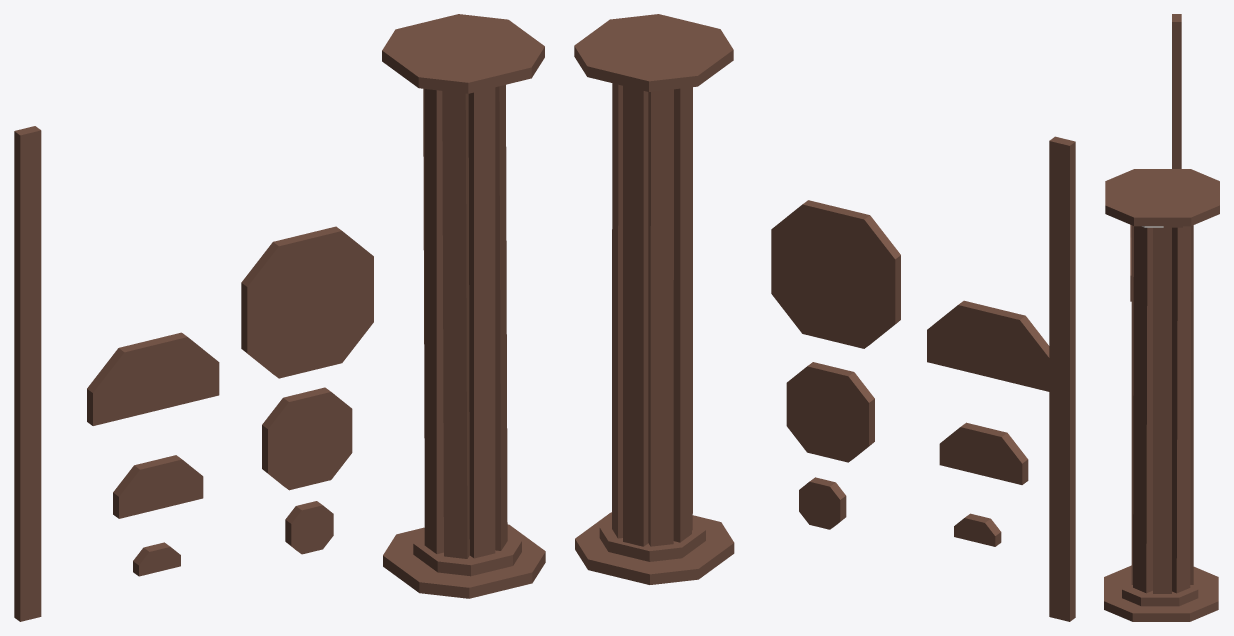
Rendered from greek-pillar-fzb-daft-by-duncan-anderson-dBswo2fOyKV.glb.
3 views of the same model, side by side, from view 1: azimuth 30°, elevation 25°; view 2: azimuth 150°, elevation 25°; view 3: azimuth 270°, elevation 25° (orthographic). The views are drawn at different scales.
Parts seen in each view (by area): view 1: group1367810154, group15885425, group882660404, group1869862936, group699842235, group752524647, group1467338244, group637229940, group748661851, group1552105455, group1021430159, group171327839 (+3 smaller); view 2: group1367810154, group15885425, group882660404, group1869862936, group699842235, group752524647, group1467338244, group637229940, group748661851, group1552105455, group1021430159, group1845869843 (+3 smaller); view 3: group15885425, group1367810154, group1869862936, group637229940, group882660404, group1021430159.
Boxes of the visible parts, box(x1,y1,x2,y2) form: group1367810154: box(424, 87, 495, 558); group15885425: box(423, 85, 507, 558); group882660404: box(14, 126, 41, 621); group1869862936: box(382, 14, 544, 93); group699842235: box(241, 234, 310, 378); group752524647: box(87, 332, 219, 425); group1467338244: box(305, 226, 373, 370); group637229940: box(383, 524, 545, 598); group748661851: box(262, 392, 310, 490); group1552105455: box(113, 455, 203, 518); group1021430159: box(413, 529, 521, 576); group171327839: box(304, 387, 331, 484); group1367810154: box(623, 86, 691, 546); group15885425: box(612, 83, 692, 546); group882660404: box(1049, 136, 1075, 621); group1869862936: box(574, 14, 733, 91); group699842235: box(833, 207, 900, 348); group752524647: box(927, 300, 1049, 391); group1467338244: box(771, 200, 838, 341); group637229940: box(575, 512, 734, 584); group748661851: box(827, 367, 874, 462); group1552105455: box(939, 422, 1028, 484); group1021430159: box(599, 515, 705, 561); group1845869843: box(799, 477, 846, 529); group15885425: box(1133, 226, 1191, 593); group1367810154: box(1131, 225, 1193, 593); group1869862936: box(1105, 169, 1219, 226); group637229940: box(1104, 565, 1218, 621); group882660404: box(1172, 14, 1181, 168); group1021430159: box(1122, 569, 1198, 606).
Size of the model in its own units: 3.8 by 3.85 by 0.97.
